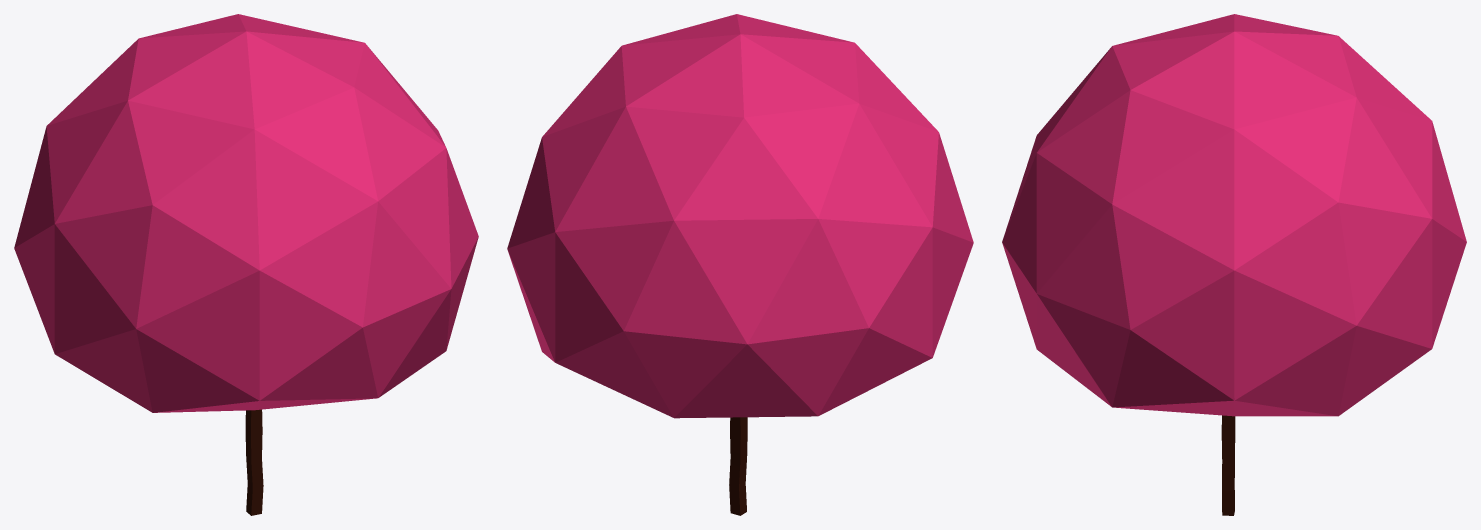
Rendered from weed.fbx.
3 renders of one model, left to right at view 1: azimuth 30°, elevation 25°; view 2: azimuth 150°, elevation 25°; view 3: azimuth 270°, elevation 25°, orthographic.
Parts seen in each view (by area): view 1: GeoSphere001; view 2: GeoSphere001; view 3: GeoSphere001.
Boxes of the visible parts, left/top/right/bottom form: GeoSphere001: left=14, top=14, right=478, bottom=515; GeoSphere001: left=507, top=14, right=973, bottom=515; GeoSphere001: left=1002, top=14, right=1466, bottom=515.
Size of the model in its own units: 29.35 by 35.12 by 30.86.
